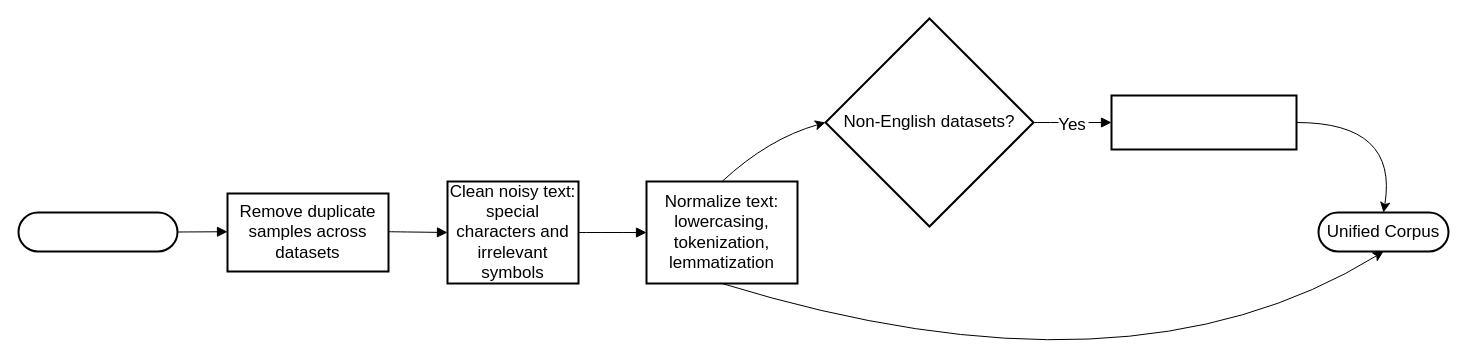
Image size: 1466x357. Some labels were removed from this diagram. Here are the shapes that lost their labels. From the top down, the centre of each, then its label:
At point (1203, 122): "Chinese word segmentation".
At point (97, 231): "Datasets Collected".
